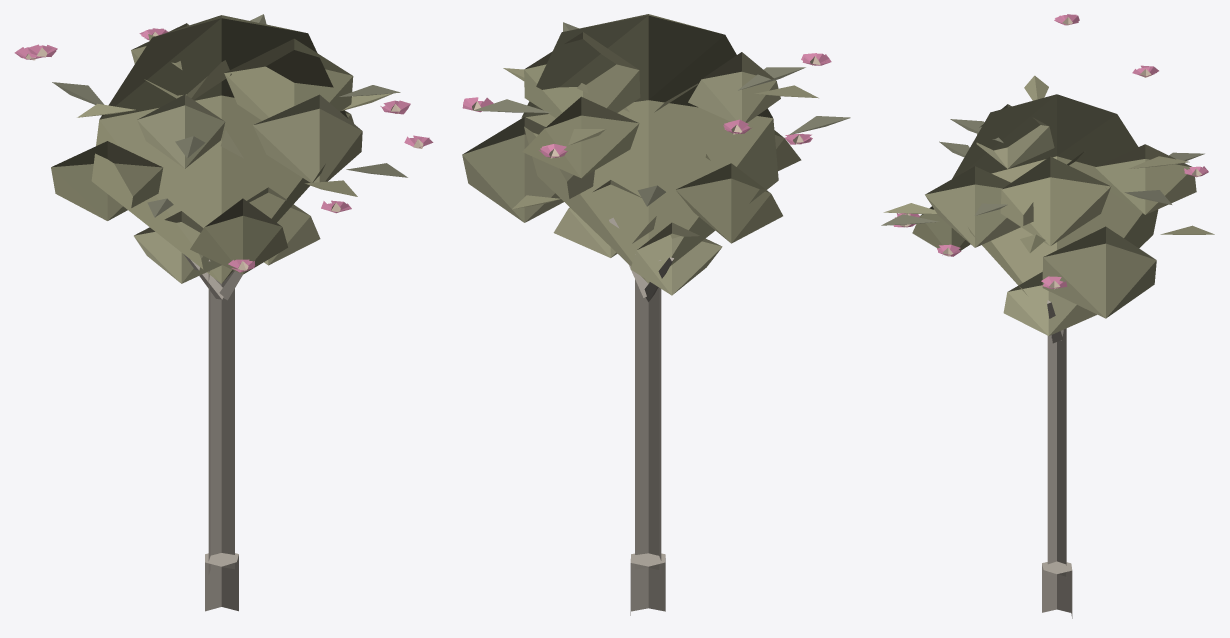
Rendered from shu.baigan@flowering__winter.glb.
3 renders of one model, left to right at view 1: azimuth 30°, elevation 25°; view 2: azimuth 150°, elevation 25°; view 3: azimuth 270°, elevation 25°, orthographic. The views are drawn at different scales.
Visible parts, largest first — view 1: shu.baigan@flowering__winter; view 2: shu.baigan@flowering__winter; view 3: shu.baigan@flowering__winter.
Part boxes in pixels (x1,y1,x2,y2): shu.baigan@flowering__winter: [14, 14, 433, 611]; shu.baigan@flowering__winter: [462, 14, 850, 615]; shu.baigan@flowering__winter: [881, 14, 1214, 618].
Size of the model in its own units: 9.82 by 15.24 by 8.8.
